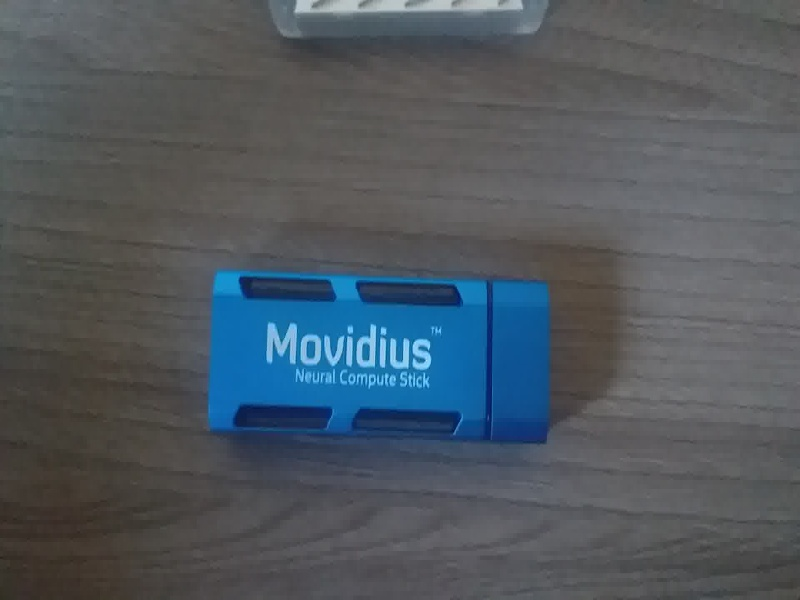movidius: (201, 257, 567, 472)
